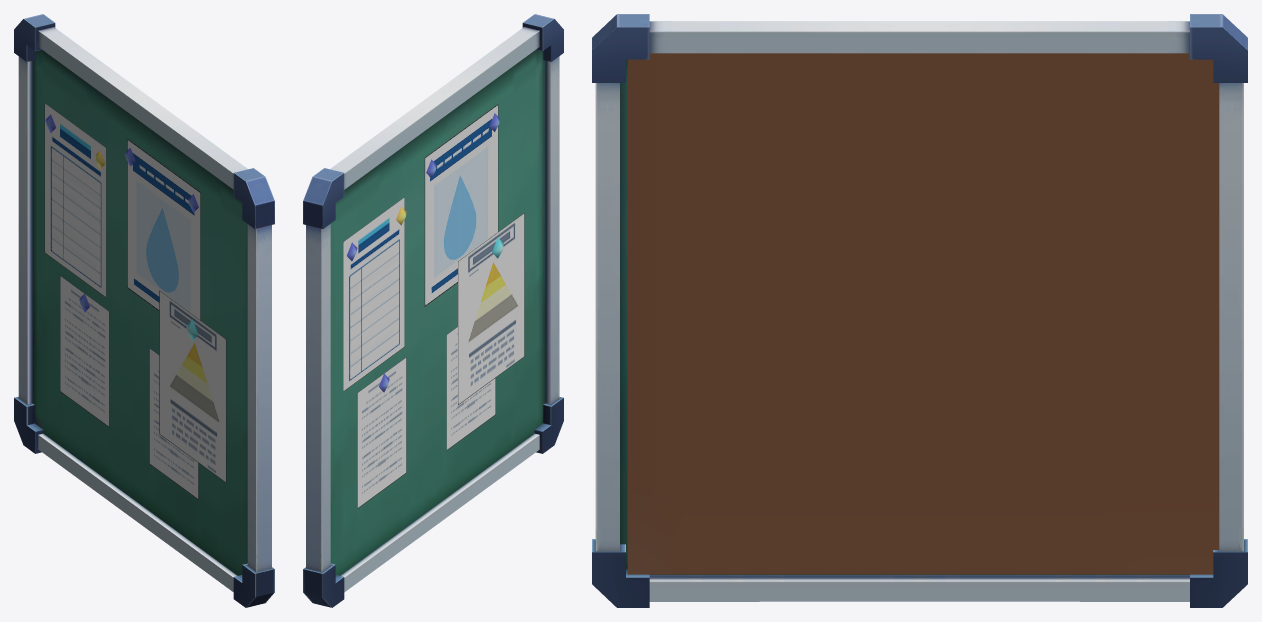
File: my_abydosclassroom_01_blackboard_03.glb
3 views of the same model, side by side, from view 1: azimuth 30°, elevation 25°; view 2: azimuth 150°, elevation 25°; view 3: azimuth 270°, elevation 25° (orthographic). The views are drawn at different scales.
Visible parts, largest first — view 1: my_abydosclassroom_01_blackboard_03; view 2: my_abydosclassroom_01_blackboard_03; view 3: my_abydosclassroom_01_blackboard_03.
Boxes of the visible parts, left/top/right/bottom form: my_abydosclassroom_01_blackboard_03: left=14, top=14, right=274, bottom=607; my_abydosclassroom_01_blackboard_03: left=303, top=14, right=563, bottom=607; my_abydosclassroom_01_blackboard_03: left=592, top=14, right=1247, bottom=607.
Size of the model in its own units: 0.000664 by 0.0113 by 0.0116.
1 material, 1 textured.
